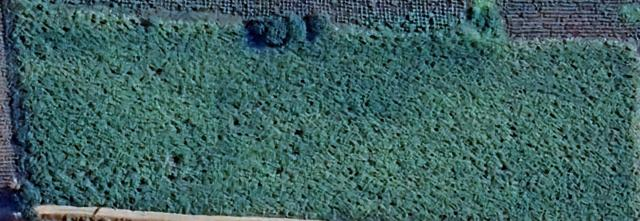Farms: (5, 7, 640, 221)
